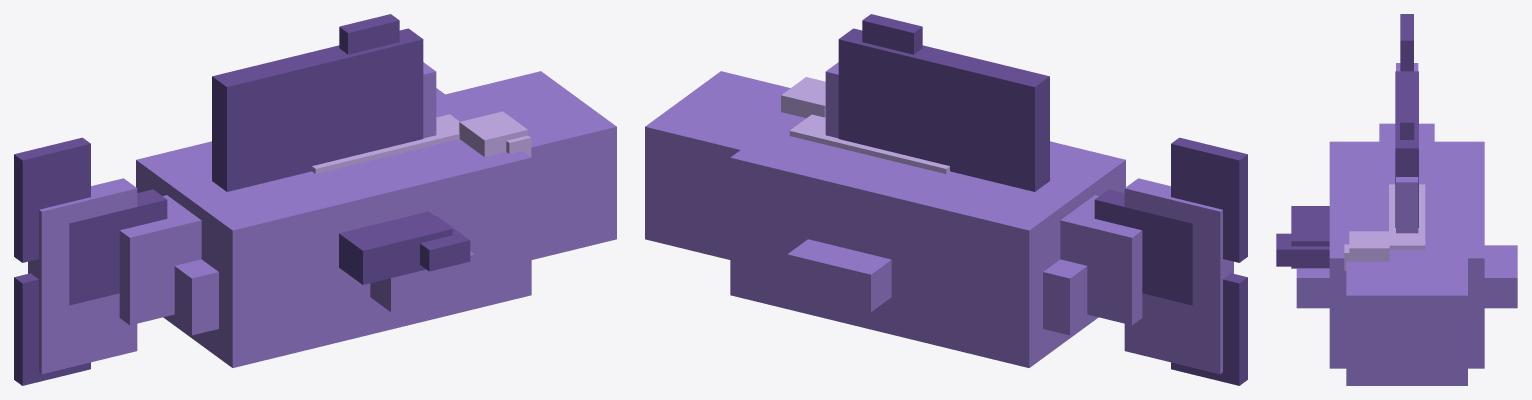
Rendered from fish_prism_lantern.glb.
3 renders of one model, left to right at view 1: azimuth 30°, elevation 25°; view 2: azimuth 150°, elevation 25°; view 3: azimuth 270°, elevation 25°, orthographic. The views are drawn at different scales.
Parts seen in each view (by area): view 1: FishArt_body, FishArt_dorsal, FishArt_tail, FishArt_pectoral, FishArt_eye, FishArt_specialty; view 2: FishArt_body, FishArt_dorsal, FishArt_tail, FishArt_specialty, FishArt_eye; view 3: FishArt_body, FishArt_pectoral, FishArt_dorsal, FishArt_eye, FishArt_specialty, FishArt_tail.
Part boxes in pixels (left/top/right/bottom): FishArt_body: left=28, top=62, right=616, bottom=374; FishArt_dorsal: left=212, top=14, right=423, bottom=191; FishArt_tail: left=14, top=137, right=167, bottom=385; FishArt_pectoral: left=339, top=211, right=470, bottom=284; FishArt_eye: left=459, top=111, right=531, bottom=156; FishArt_specialty: left=312, top=114, right=459, bottom=173; FishArt_body: left=645, top=62, right=1233, bottom=374; FishArt_dorsal: left=838, top=14, right=1049, bottom=191; FishArt_tail: left=1094, top=137, right=1247, bottom=385; FishArt_specialty: left=789, top=114, right=949, bottom=173; FishArt_eye: left=781, top=77, right=825, bottom=118; FishArt_body: left=1296, top=63, right=1517, bottom=385; FishArt_pectoral: left=1276, top=206, right=1329, bottom=268; FishArt_dorsal: left=1395, top=71, right=1418, bottom=227; FishArt_eye: left=1344, top=231, right=1389, bottom=270; FishArt_specialty: left=1389, top=184, right=1425, bottom=249; FishArt_tail: left=1400, top=14, right=1413, bottom=71.
Bounding box in the file's own units: 0.3091 × 0.1442 × 0.1439.
